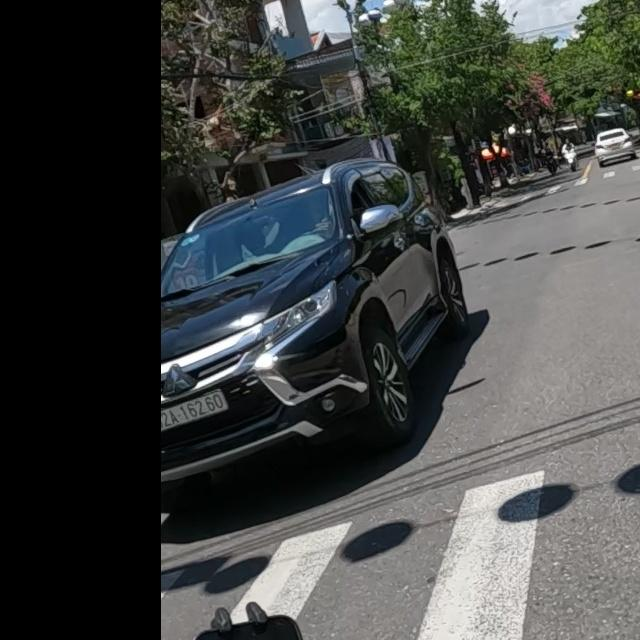license-plate: (161, 390, 228, 430)
